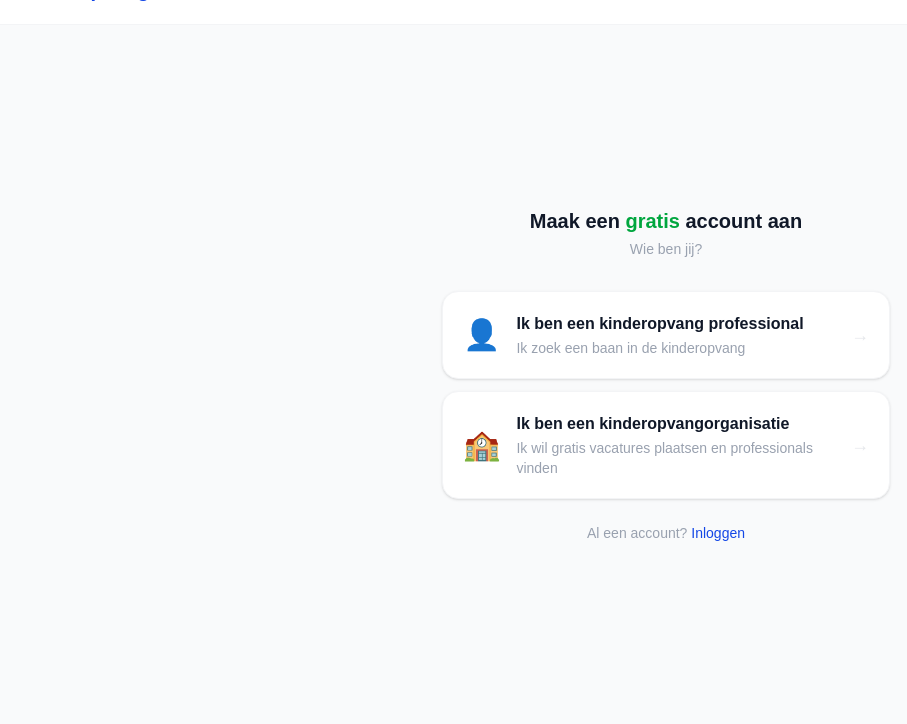
RegisterPage — stap 2: gegevens formulier › shows password mismatch error
Click the text "Ik ben een kinderopvang professional".
click(660, 324)  # box [516, 312, 804, 336]
(page scrolled)
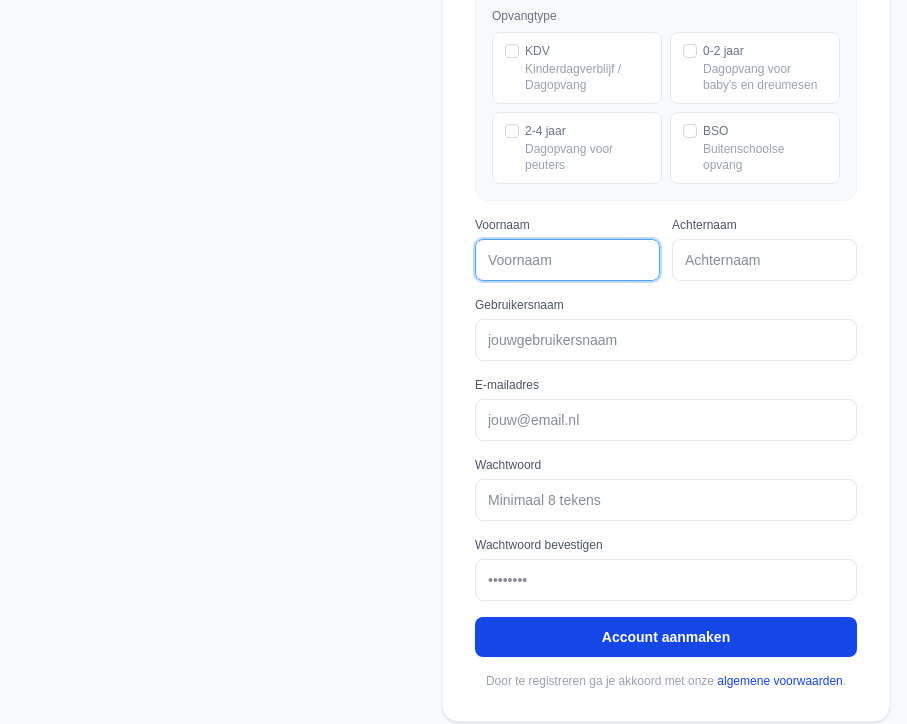
Type "testuser" into the field with placeholder "jouwgebruikersnaam".
click(666, 340); type("testuser")  # box [475, 319, 857, 361]
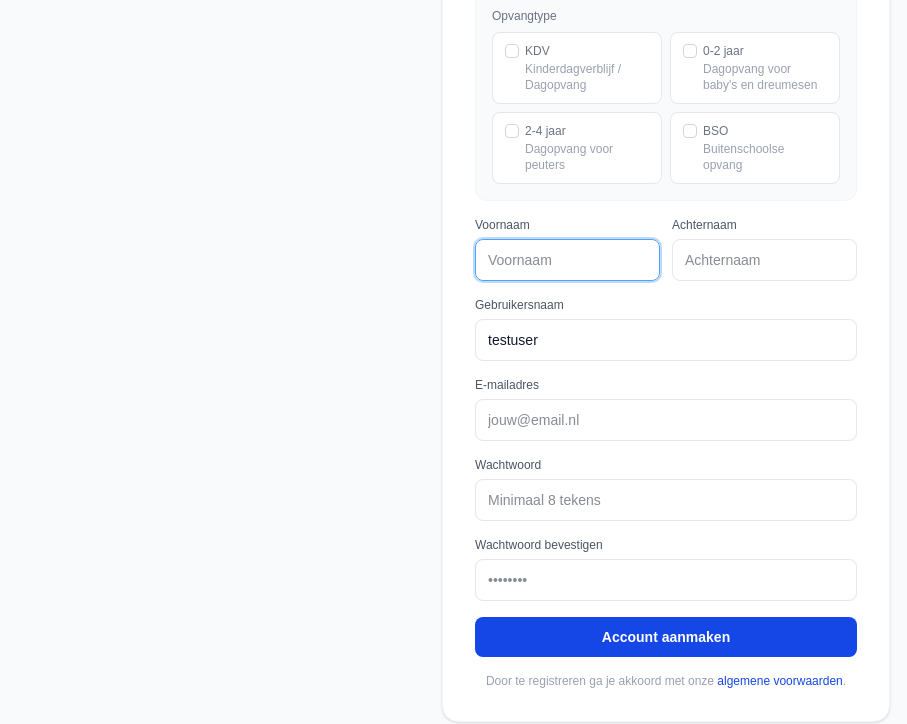
Type "test@test.nl" into the field with placeholder "jouw@email.nl".
click(666, 420); type("test@test.nl")  # box [475, 399, 857, 441]
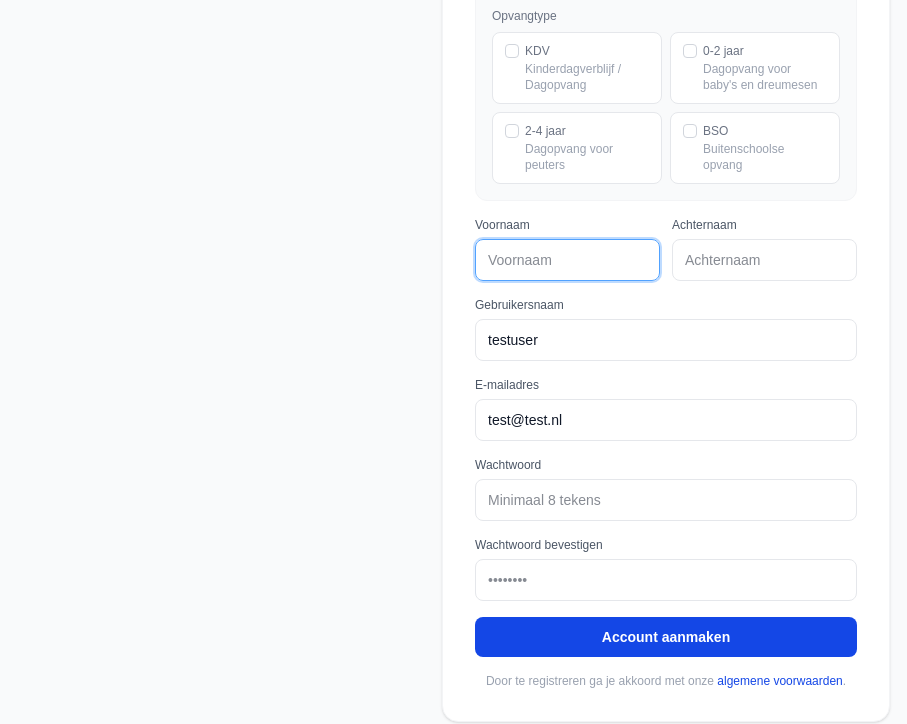
Type "password123" into the password field with placeholder "Minimaal 8 tekens".
click(666, 500); type("password123")  # box [475, 479, 857, 521]
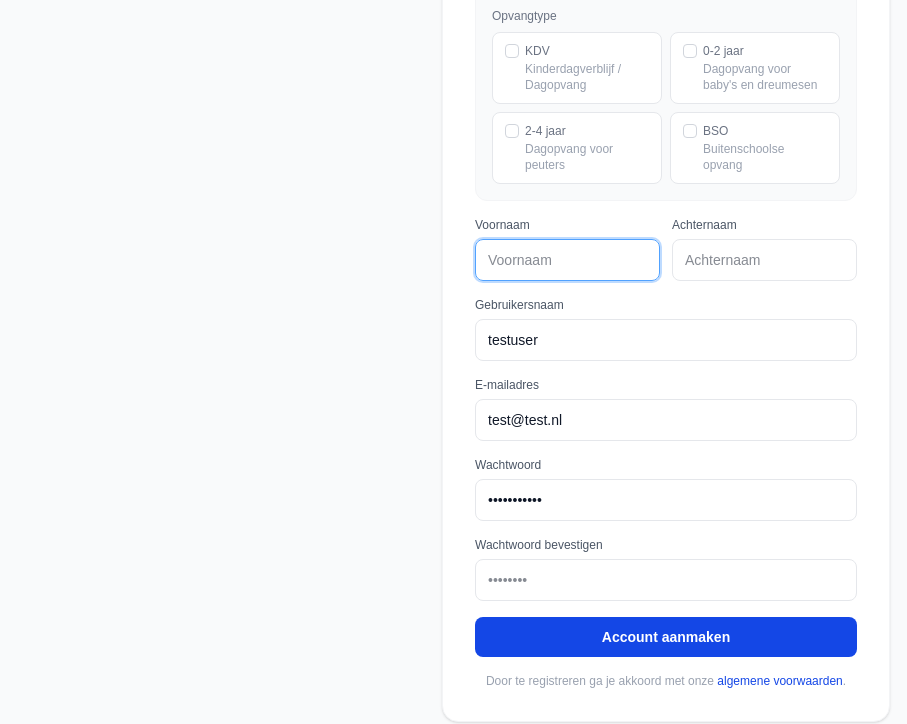
Type "different123" into the password field with placeholder "••••••••".
click(666, 580); type("different123")  # box [475, 559, 857, 601]
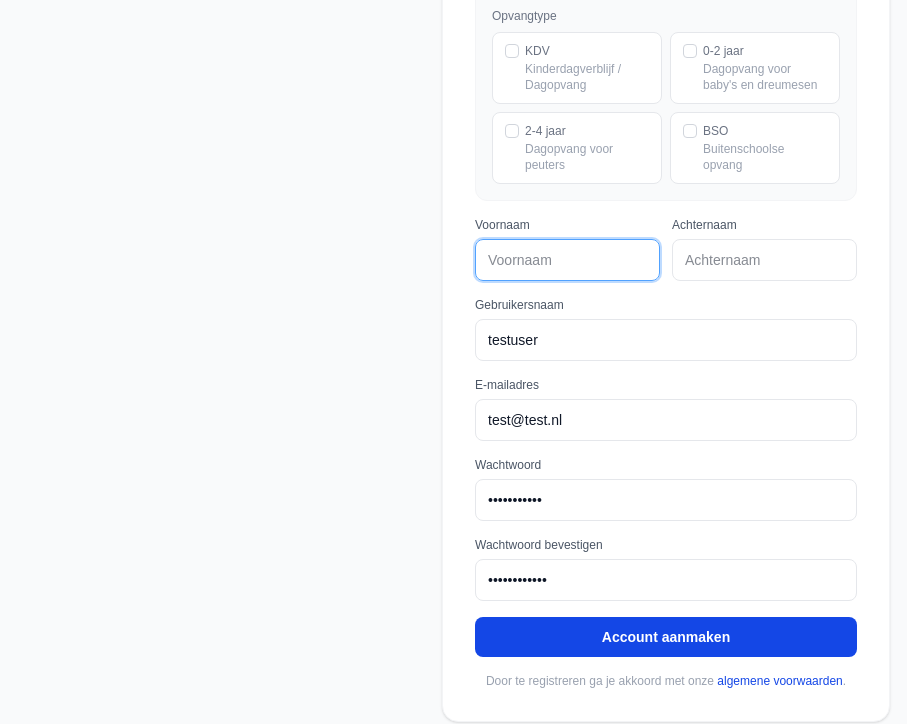
Click the button "Account aanmaken".
click(666, 637)  # box [475, 617, 857, 657]
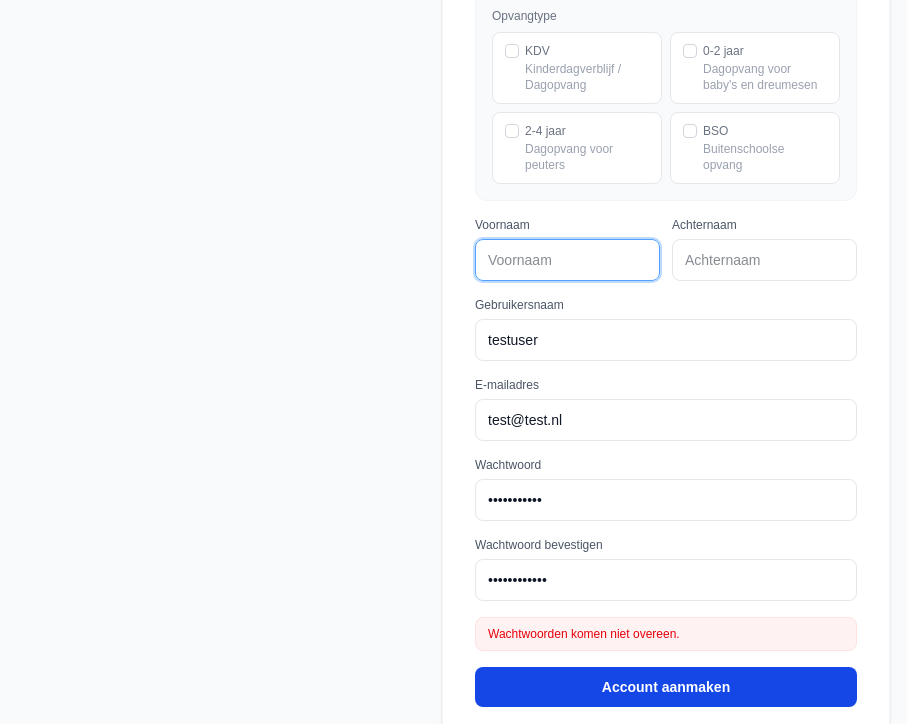
Check: the text "Wachtwoorden komen niet overeen." is shown, box [475, 617, 857, 651]
